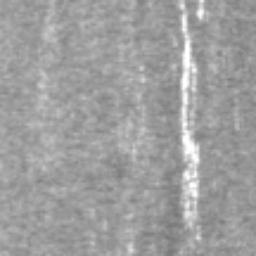White rust: (178, 0, 200, 227), (196, 0, 205, 20)
